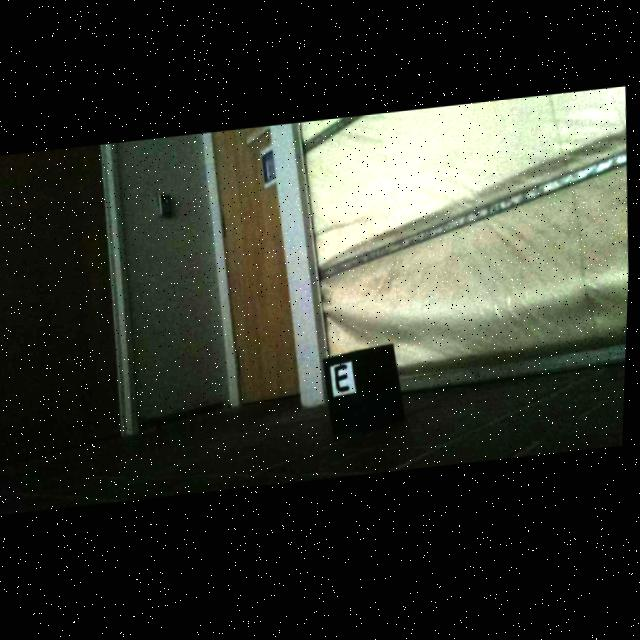E: (338, 370, 354, 398)
